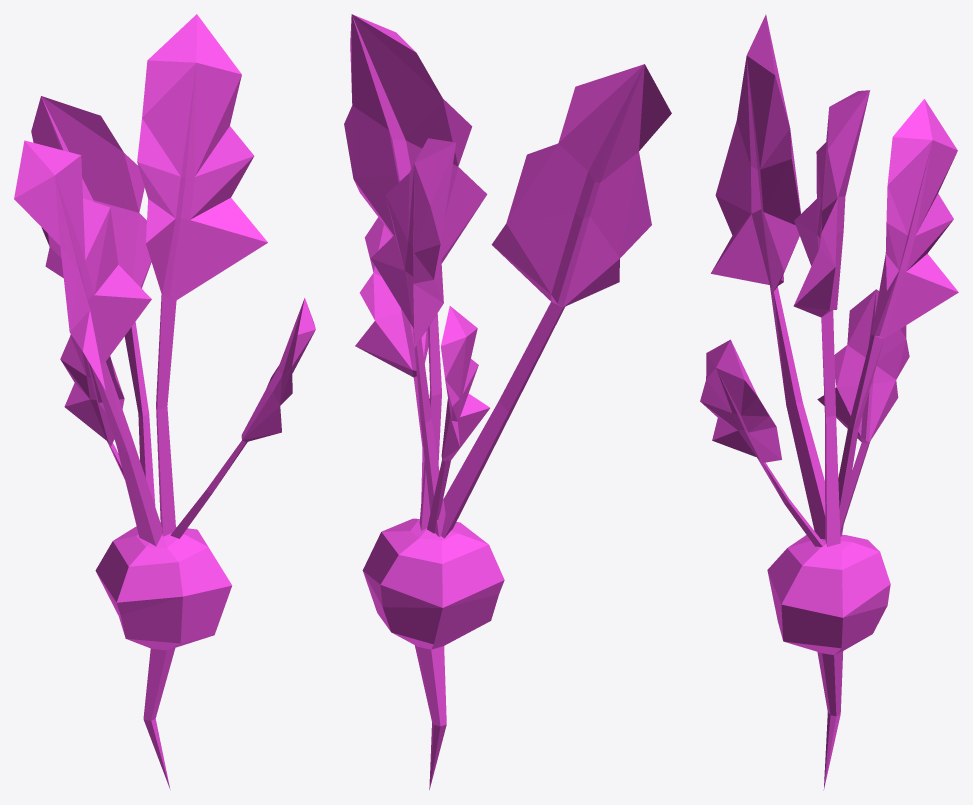
Rendered from SM_Beetroot_Plant_Ripe_Root_A.fbx.
3 renders of one model, left to right at view 1: azimuth 30°, elevation 25°; view 2: azimuth 150°, elevation 25°; view 3: azimuth 270°, elevation 25°, orthographic. The views are drawn at different scales.
Visible parts, largest first — view 1: SM_Beetroot_Plant_Ripe_Root_A; view 2: SM_Beetroot_Plant_Ripe_Root_A; view 3: SM_Beetroot_Plant_Ripe_Root_A.
Boxes of the visible parts, x1,y1,x2,y2 form: SM_Beetroot_Plant_Ripe_Root_A: (14, 14, 315, 789); SM_Beetroot_Plant_Ripe_Root_A: (344, 14, 671, 789); SM_Beetroot_Plant_Ripe_Root_A: (700, 14, 958, 790).
Bounding box in the file's own units: 0.4217 × 1.01 × 0.3287.
